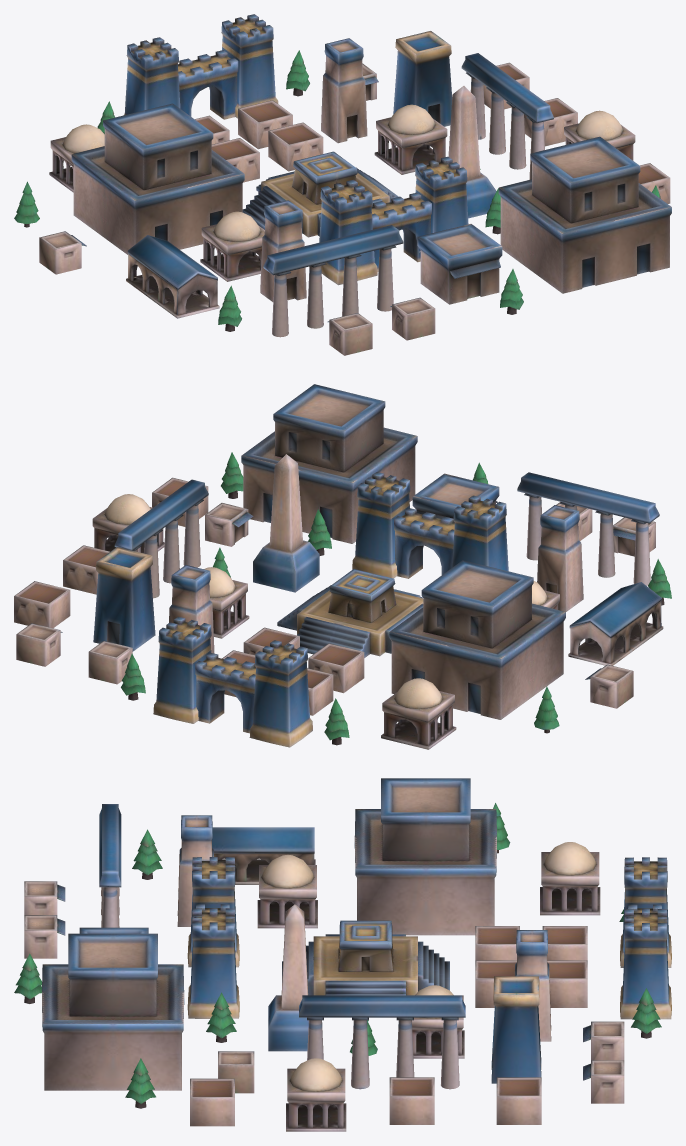
Rendered from city_babylonian_3.glb.
The picture shows the model from 3 angles, top to bottom: view 1: azimuth 30°, elevation 25°; view 2: azimuth 150°, elevation 25°; view 3: azimuth 270°, elevation 25°; orthographic projection. The views are drawn at different scales.
Parts seen in each view (by area): view 1: 3_low.027, 3_low.050, 1_low.012, 1_low.013, 1_low.017, 3_low.030, 1_low.009, 3_low.026, 1_low.011, 3_low.031, 1_low.010, 2_low.031 (+20 smaller); view 2: 3_low.050, 3_low.027, 1_low.012, 1_low.013, 1_low.011, 1_low.017, 3_low.031, 3_low.026, 3_low.028, 1_low.009, 2_low.018, 1_low.015 (+23 smaller); view 3: 3_low.027, 3_low.050, 1_low.011, 1_low.009, 1_low.013, 1_low.012, 3_low.031, 2_low.018, 3_low.028, 2_low.030, 3_low.026, 2_low.025 (+21 smaller).
Boxes of the visible parts, box(x1,y1,x2,y2) form: 3_low.027: box(498, 136, 671, 293); 3_low.050: box(71, 103, 244, 254); 1_low.012: box(123, 14, 278, 118); 1_low.013: box(319, 156, 468, 285); 1_low.017: box(263, 225, 403, 337); 3_low.030: box(417, 224, 502, 304); 1_low.009: box(461, 53, 553, 179); 3_low.026: box(126, 235, 219, 318); 1_low.011: box(242, 151, 398, 237); 3_low.031: box(393, 31, 452, 126); 1_low.010: box(321, 38, 367, 143); 2_low.031: box(374, 104, 447, 174); 3_low.050: box(389, 560, 565, 719); 3_low.027: box(241, 384, 417, 543); 1_low.012: box(153, 616, 312, 747); 1_low.013: box(352, 472, 508, 578); 1_low.011: box(277, 569, 423, 657); 1_low.017: box(517, 472, 659, 585); 3_low.031: box(93, 547, 155, 651); 3_low.026: box(568, 582, 663, 665); 3_low.028: box(253, 454, 319, 592); 1_low.009: box(114, 479, 208, 598); 2_low.018: box(381, 678, 456, 749); 1_low.015: box(537, 505, 583, 611); 3_low.027: box(42, 933, 184, 1090); 3_low.050: box(354, 778, 496, 935); 1_low.011: box(282, 920, 449, 995); 1_low.009: box(299, 995, 465, 1089); 1_low.013: box(187, 857, 239, 1018); 1_low.012: box(620, 857, 671, 1019); 3_low.031: box(491, 976, 541, 1083); 2_low.018: box(540, 842, 600, 915); 3_low.028: box(268, 904, 308, 1051); 2_low.030: box(286, 1058, 346, 1131); 3_low.026: box(212, 827, 315, 884); 2_low.025: box(257, 855, 317, 928).
Bounding box in the file's own units: 39.17 × 8.48 × 36.97.
3 materials, 3 textured.
